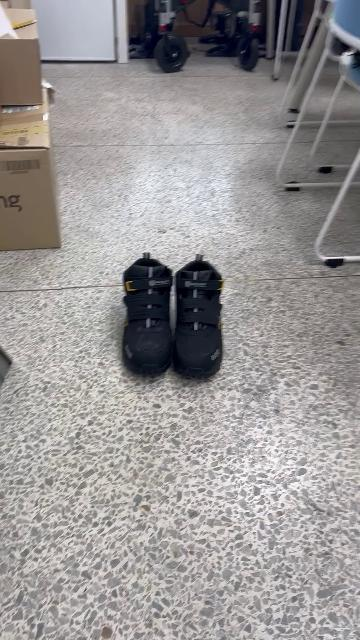shoe_worn: (172, 255, 228, 382), (120, 250, 173, 377)
